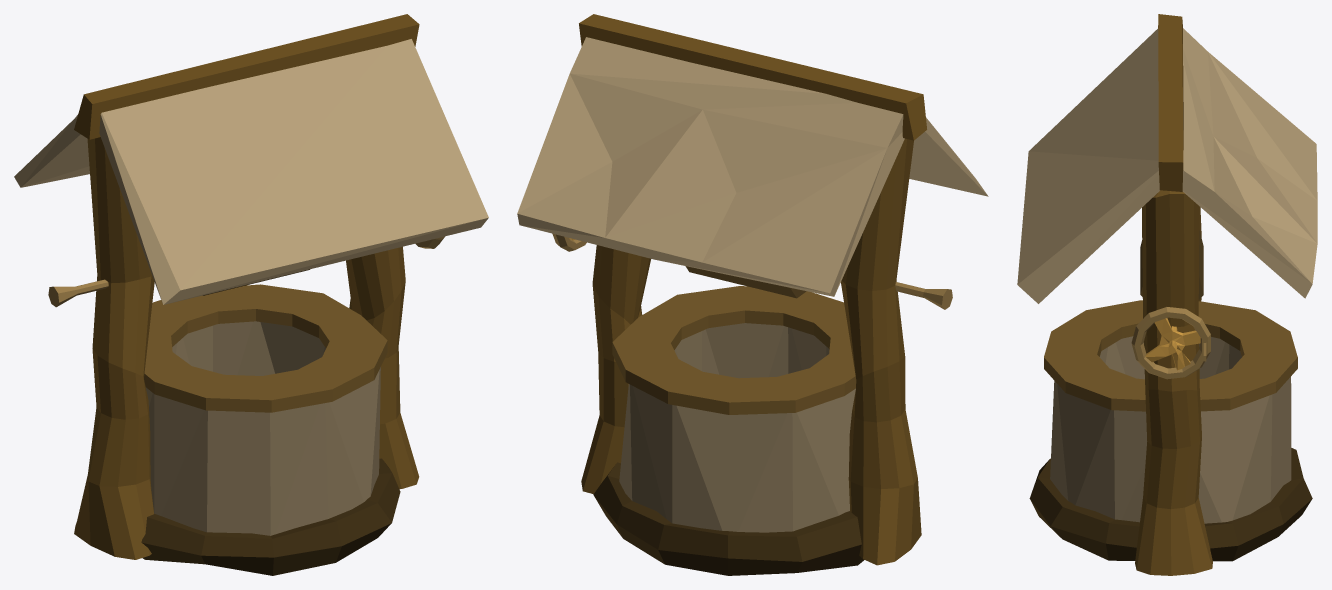
The model's file is well.fbx.
3 views of the same model, side by side, from view 1: azimuth 30°, elevation 25°; view 2: azimuth 150°, elevation 25°; view 3: azimuth 270°, elevation 25° (orthographic). The views are drawn at different scales.
Parts seen in each view (by area): view 1: well; view 2: well; view 3: well.
Boxes of the visible parts, x1,y1,x2,y2 form: well: (14, 14, 488, 575); well: (517, 14, 988, 575); well: (1017, 14, 1317, 575).
Size of the model in its own units: 711 by 776 by 496.
